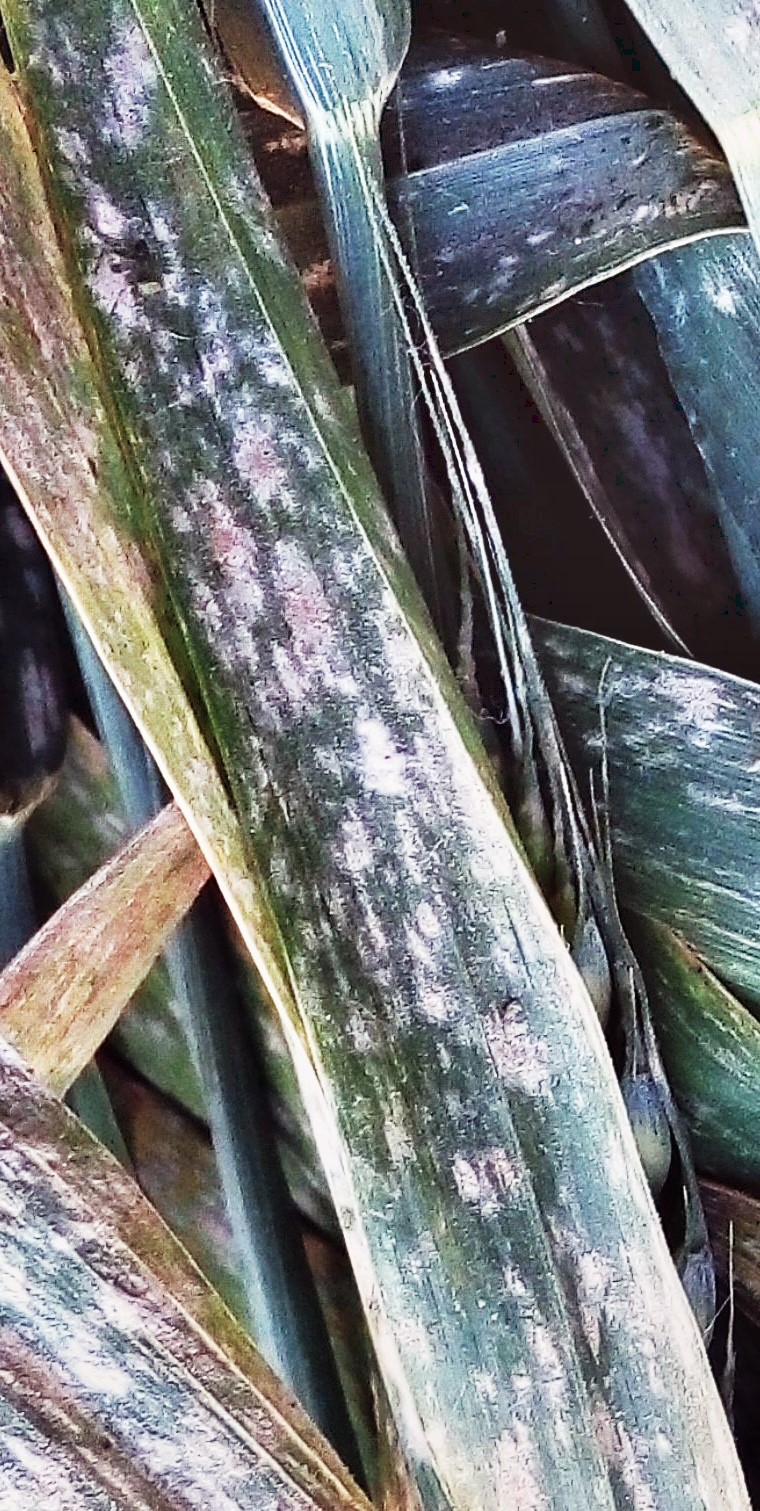Powdery Mildew: (110, 279, 578, 1286)
